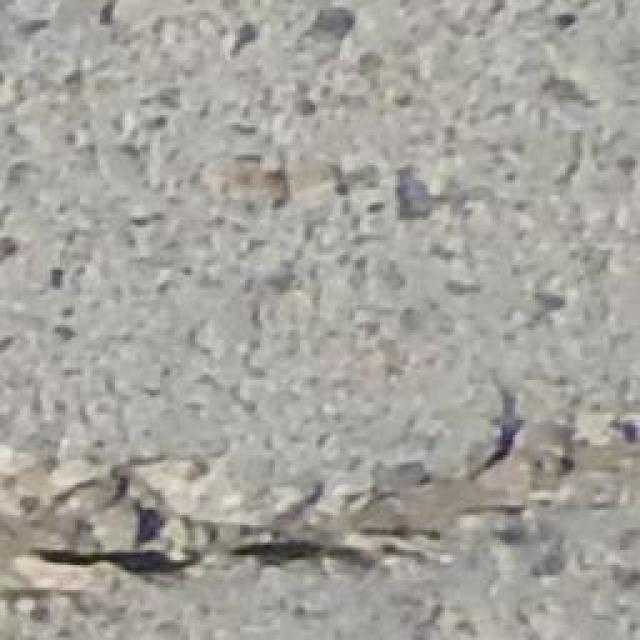concrete-crack: (6, 484, 542, 587)
